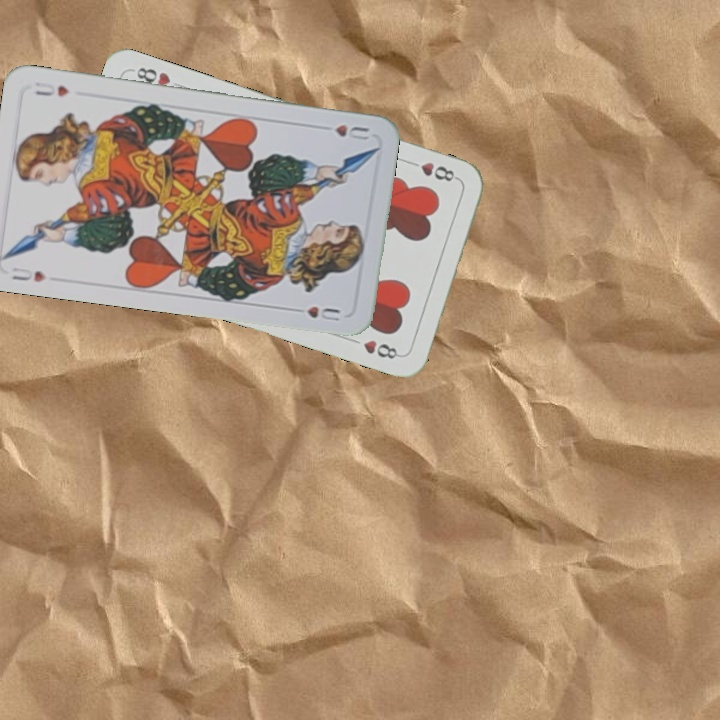H8: (403, 157, 461, 184)
HU: (331, 120, 371, 143), (8, 263, 49, 285)
